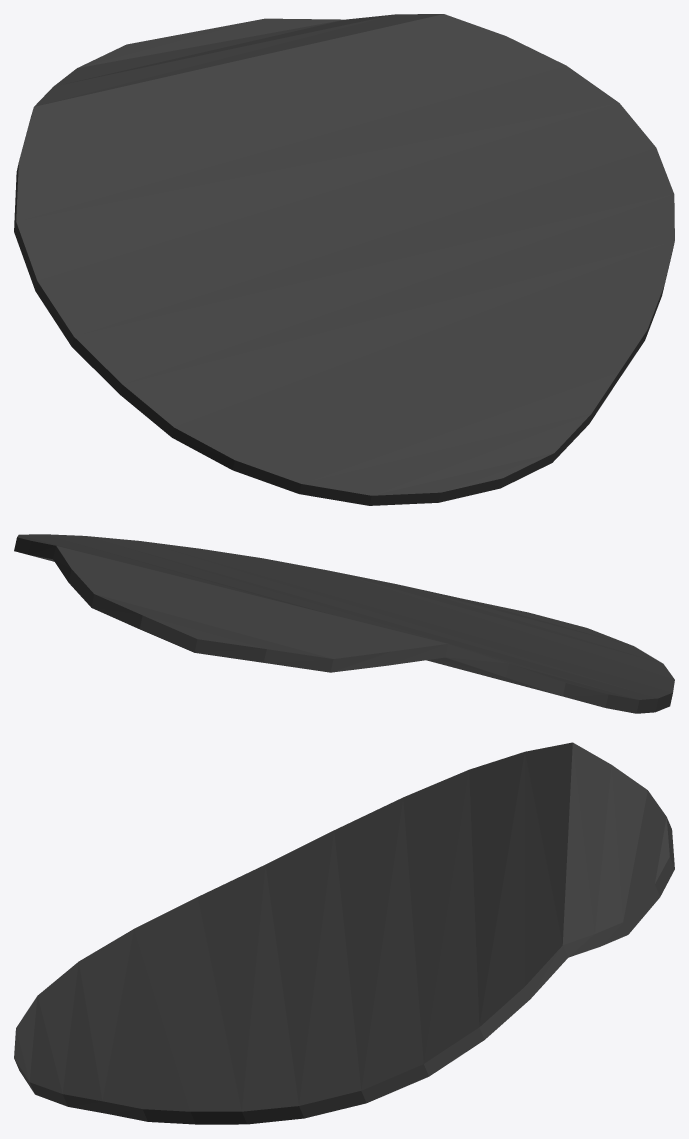
File: c6_vertebral_foramen.glb
3 renders of one model, top to bottom at view 1: azimuth 30°, elevation 25°; view 2: azimuth 150°, elevation 25°; view 3: azimuth 270°, elevation 25°, orthographic. The views are drawn at different scales.
Visible parts, largest first — view 1: c6_vertebral_foramen; view 2: c6_vertebral_foramen; view 3: c6_vertebral_foramen.
Part boxes in pixels (x1,y1,x2,y2): c6_vertebral_foramen: (14, 14, 674, 505); c6_vertebral_foramen: (14, 534, 674, 713); c6_vertebral_foramen: (14, 742, 674, 1124).
Bounding box in the file's own units: 10.75 × 3.93 × 10.14.
1 material, 1 textured.
